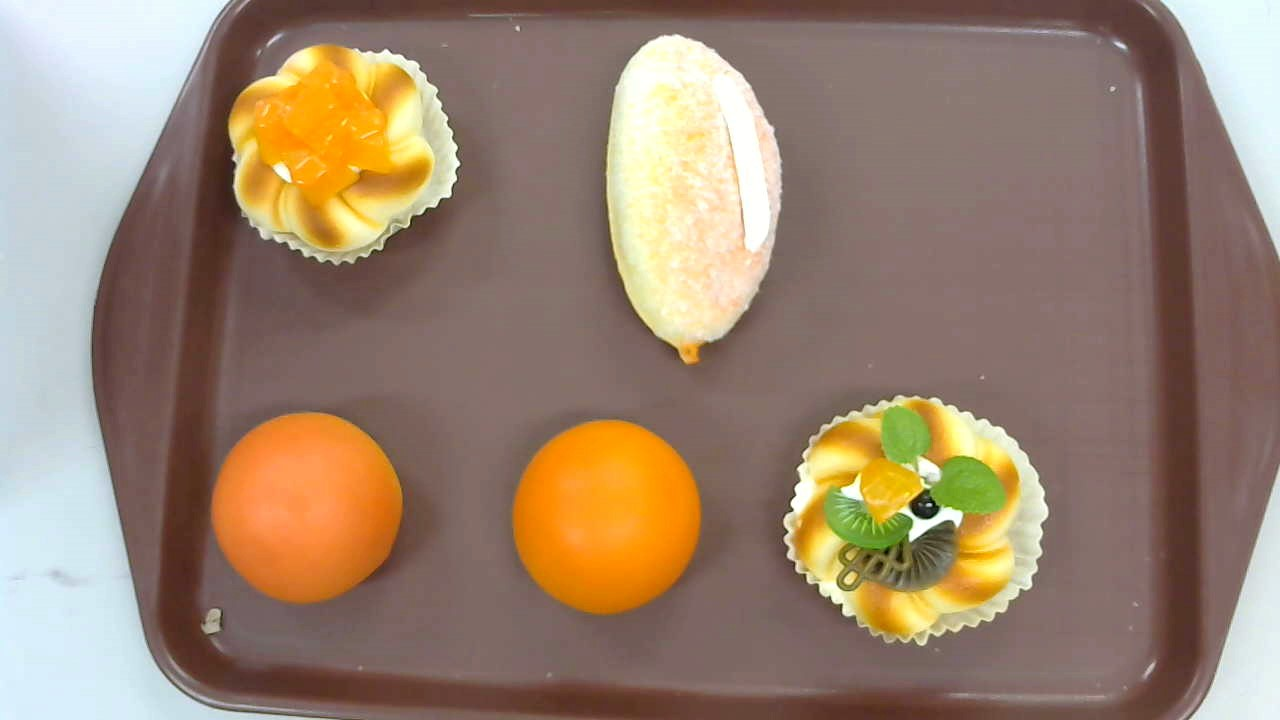bun: (512, 420, 701, 616), (210, 412, 403, 603)
coconut: (607, 32, 781, 364)
fruit tart: (783, 393, 1048, 644)
mango tart: (229, 42, 460, 268)
